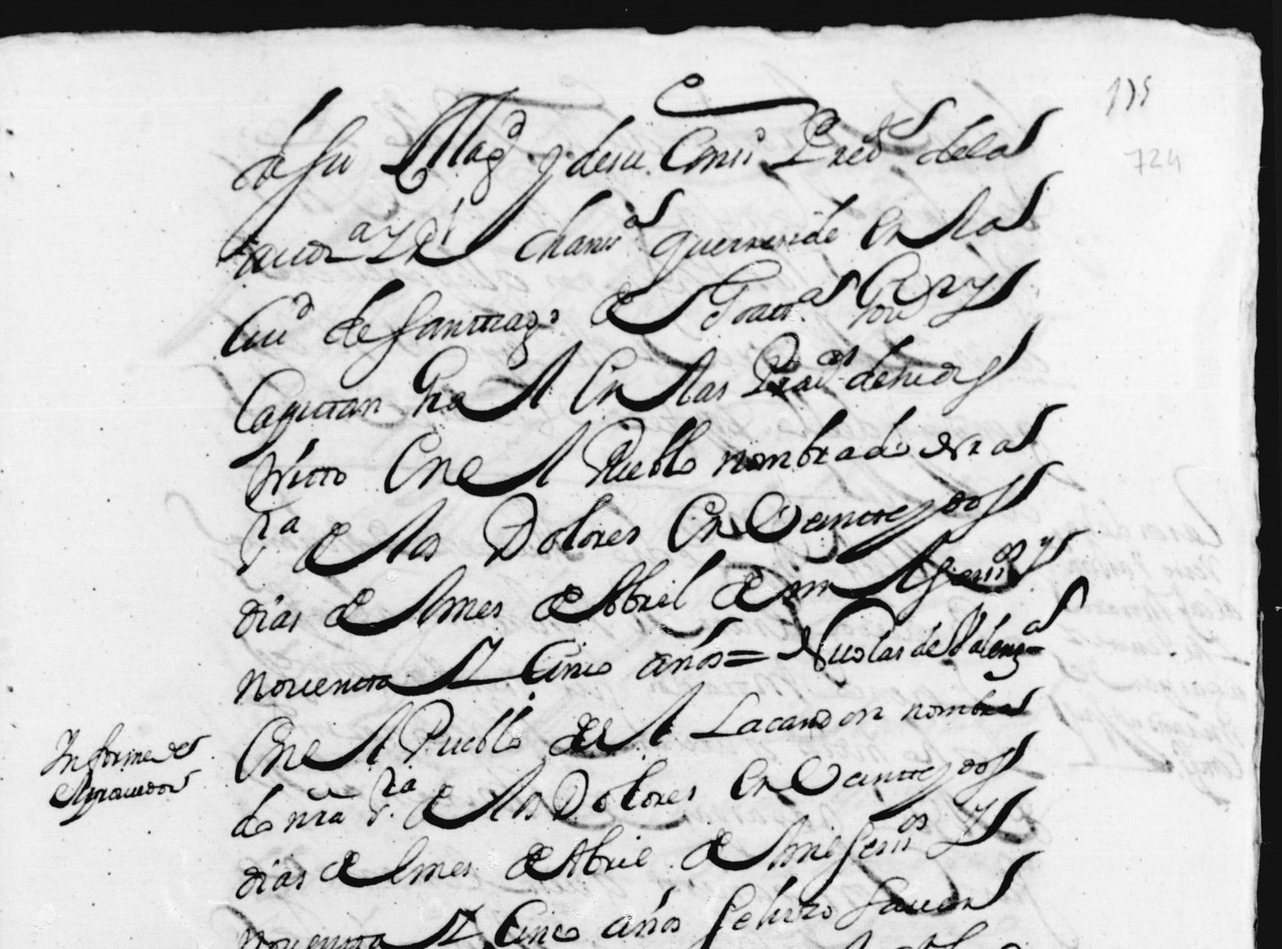lacandon: (689, 691, 883, 739)
